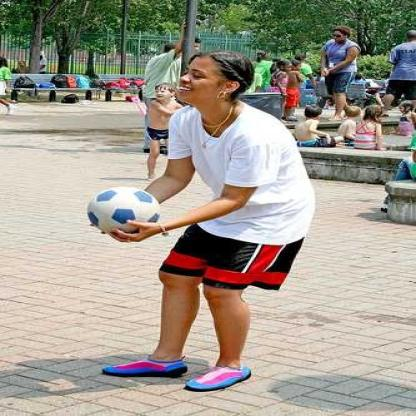ball: (90, 186, 159, 237)
